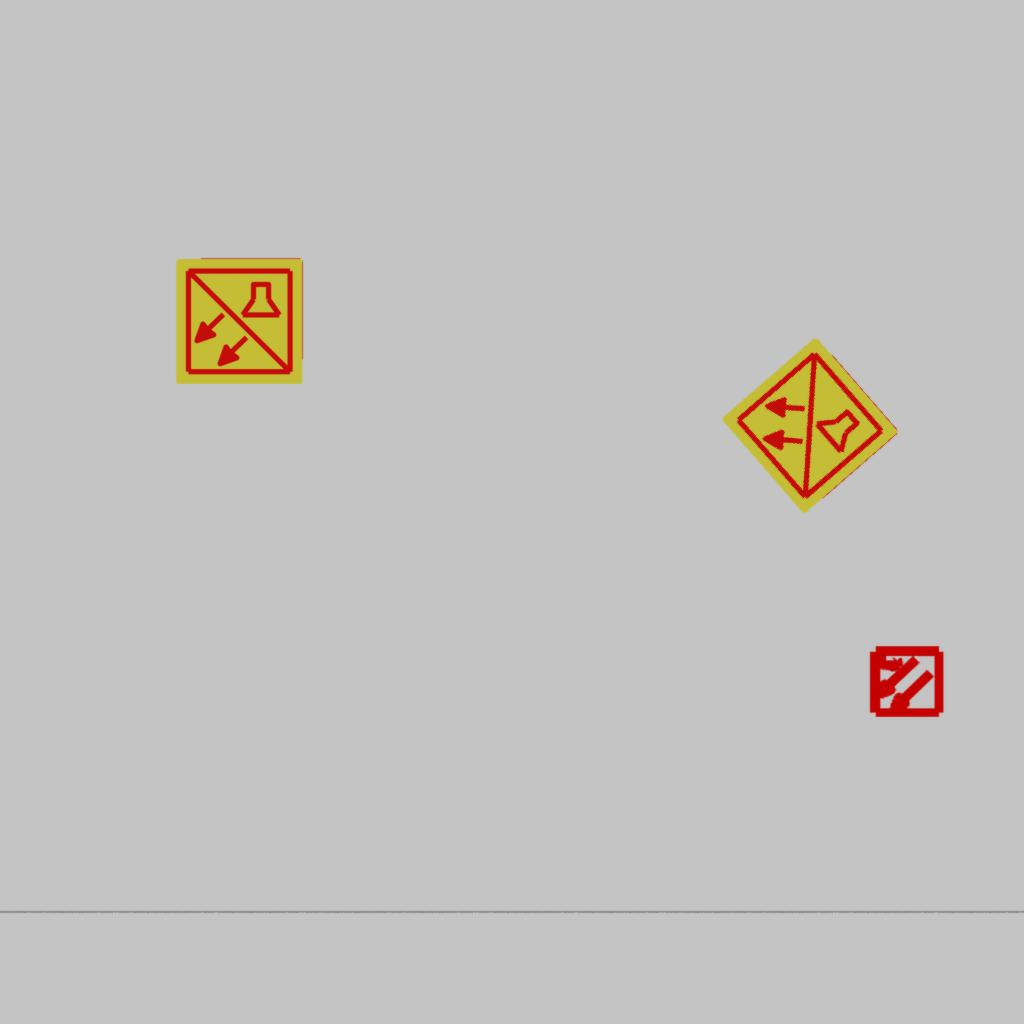OKW_Multisensormelder_(Kombination_optischer_Rauch-Kahlenmonoxid_Waerme-Melder): (716, 331, 904, 519), (173, 255, 305, 387)
OT_Multisensormelder_(Kombination_RMO_WMD): (848, 625, 961, 738)
